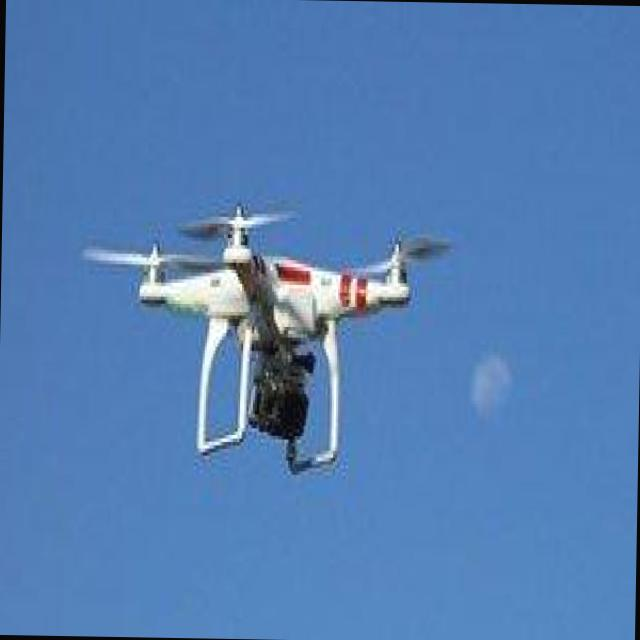drone: (76, 195, 464, 478)
